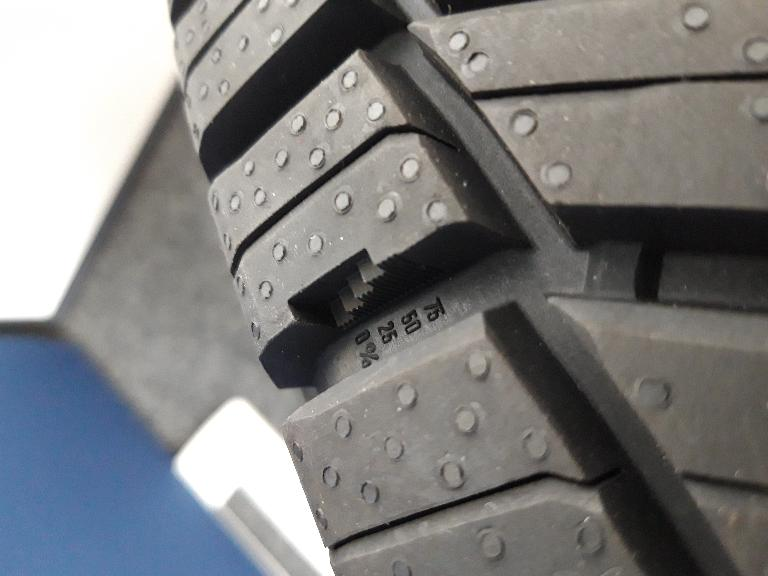temoin:100: (287, 247, 415, 339)
